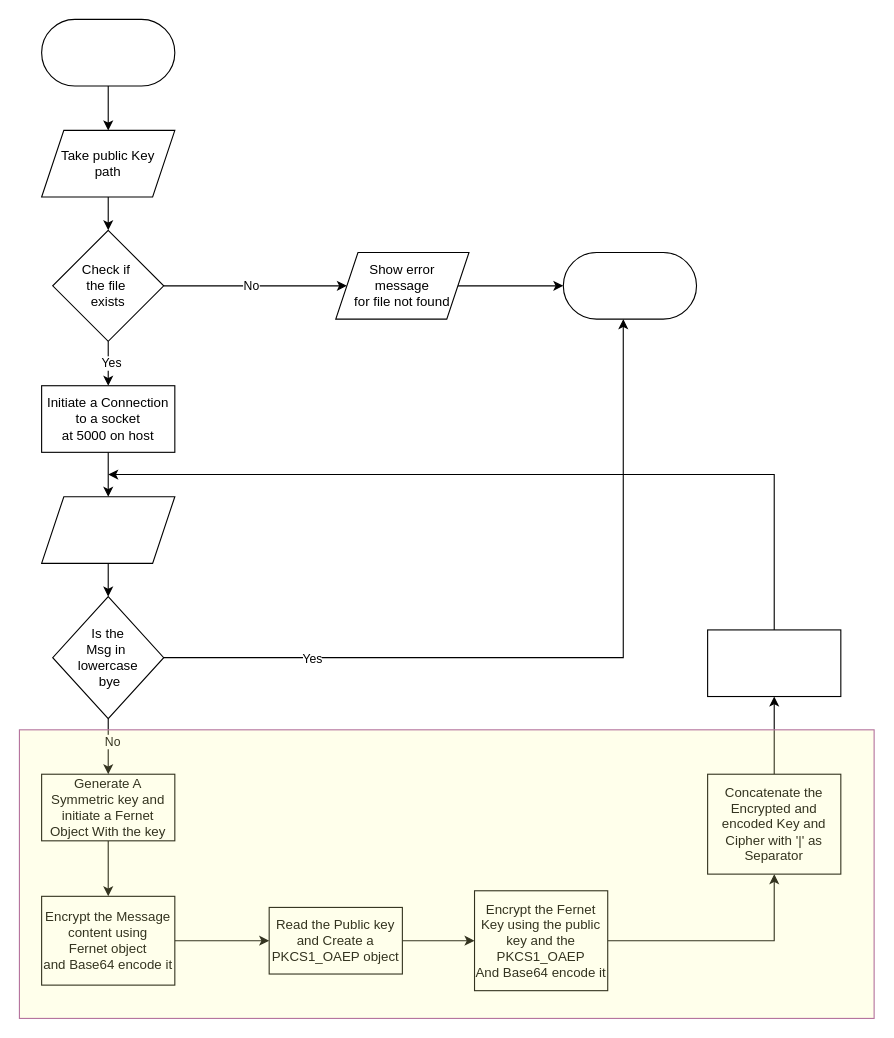
This 894x1038 diagram has some shape labels left out. The shapes that lost their labels are listed below. From the top down, each one's centre as x and y in pixels, then its label:
(x=108, y=52): Start The TX
(x=629, y=285): Stop
(x=108, y=529): Take message to Encrypt
(x=774, y=663): Send to the socket
(x=446, y=873): Hybrid Encryption
